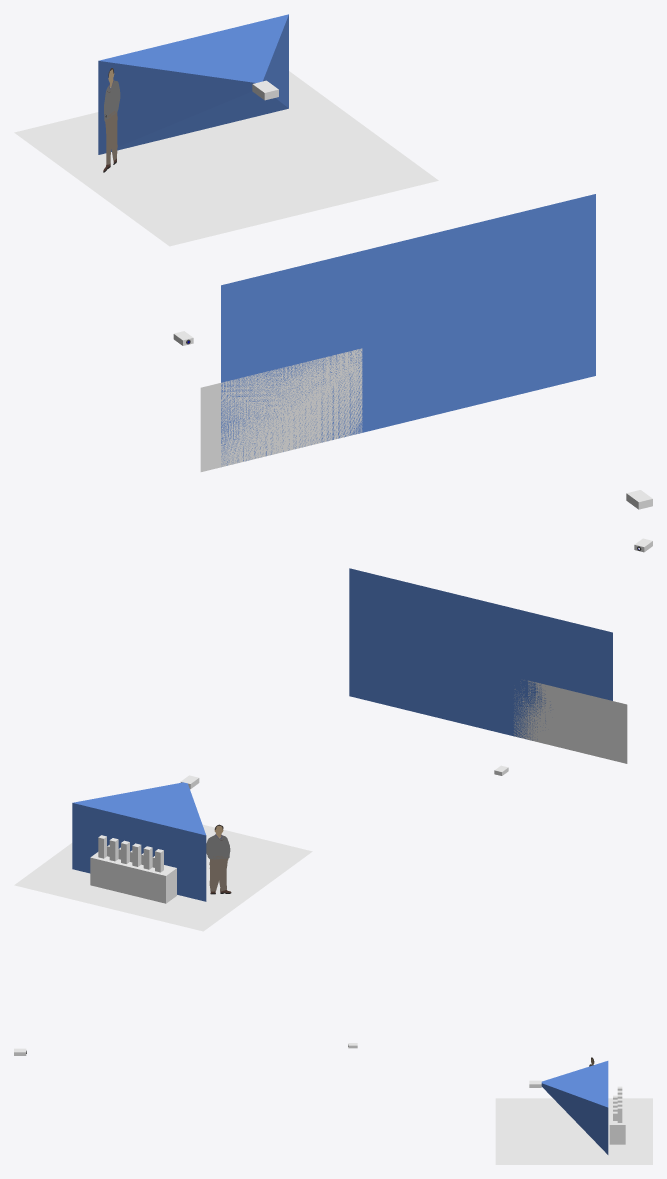
The model's file is SET_11_CiudadUnicel.obj.
3 views of the same model, one above another, from view 1: azimuth 30°, elevation 25°; view 2: azimuth 150°, elevation 25°; view 3: azimuth 270°, elevation 25° (orthographic). The views are drawn at different scales.
Visible parts, largest first — view 1: Mesh5 Component_7_1 Component_8_1 Component_59_1 Model, Mesh4 Component_9_1 Model, Mesh7 Component_67_1 Component_66_1 Component_65_1 Model, Mesh2 Component_3_1 Component_4_1 Model, Mesh1 Derrick1 Model; view 2: Mesh5 Component_7_1 Component_8_1 Component_59_1 Model, Mesh4 Component_9_1 Model, Mesh7 Component_67_1 Component_66_1 Component_65_1 Model, Mesh2 Component_3_1 Component_4_1 Model, Mesh9 Component_86_1 Model, Mesh1 Derrick1 Model; view 3: Mesh4 Component_9_1 Model, Mesh7 Component_67_1 Component_66_1 Component_65_1 Model, Mesh9 Component_86_1 Model.
Part boxes in pixels (x1,y1,x2,y2): Mesh5 Component_7_1 Component_8_1 Component_59_1 Model: [221, 194, 595, 465]; Mesh4 Component_9_1 Model: [14, 71, 438, 246]; Mesh7 Component_67_1 Component_66_1 Component_65_1 Model: [98, 14, 288, 154]; Mesh2 Component_3_1 Component_4_1 Model: [200, 348, 362, 471]; Mesh1 Derrick1 Model: [103, 68, 120, 172]; Mesh5 Component_7_1 Component_8_1 Component_59_1 Model: [349, 568, 612, 740]; Mesh4 Component_9_1 Model: [14, 824, 312, 931]; Mesh7 Component_67_1 Component_66_1 Component_65_1 Model: [72, 782, 206, 901]; Mesh2 Component_3_1 Component_4_1 Model: [513, 680, 627, 763]; Mesh9 Component_86_1 Model: [90, 852, 176, 903]; Mesh1 Derrick1 Model: [206, 824, 231, 894]; Mesh4 Component_9_1 Model: [495, 1098, 652, 1164]; Mesh7 Component_67_1 Component_66_1 Component_65_1 Model: [541, 1061, 608, 1154]; Mesh9 Component_86_1 Model: [609, 1098, 625, 1144].
Size of the model in its own units: 8859 by 3228 by 20312.
